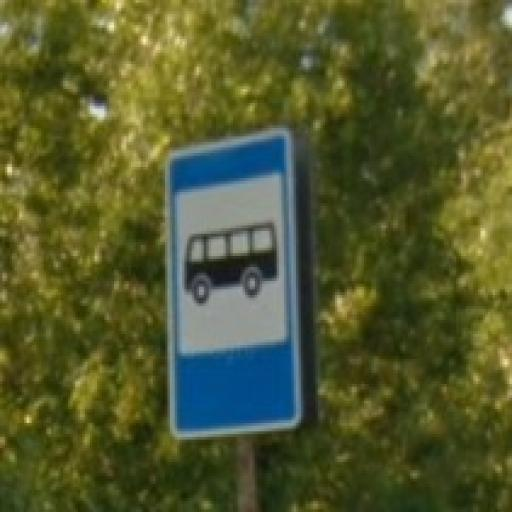traffic_sign: (166, 127, 304, 444)
